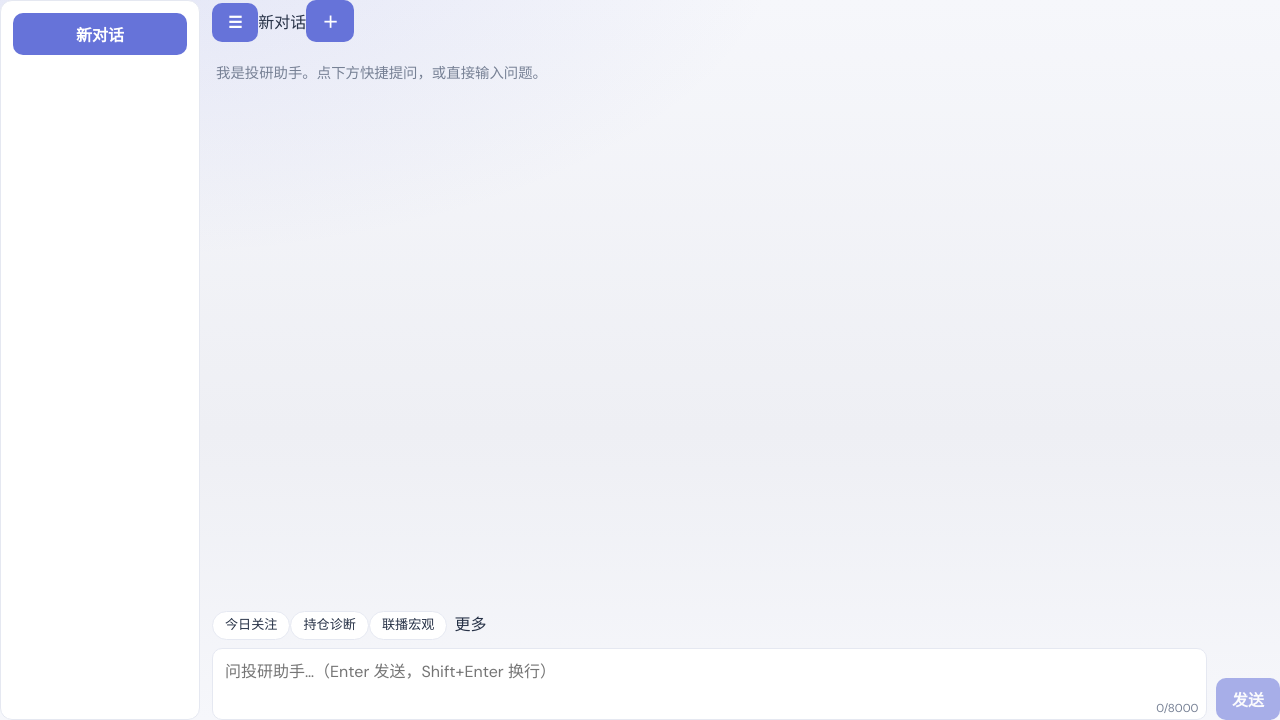
Test: 新会话创建未完成时阻止使用旧 sessionId 发送
In the text box with placeholder "问投研助手…（Enter 发送，Shift+Enter 换行）": [710, 684] box [212,648,1207,719], type "过渡期问题"
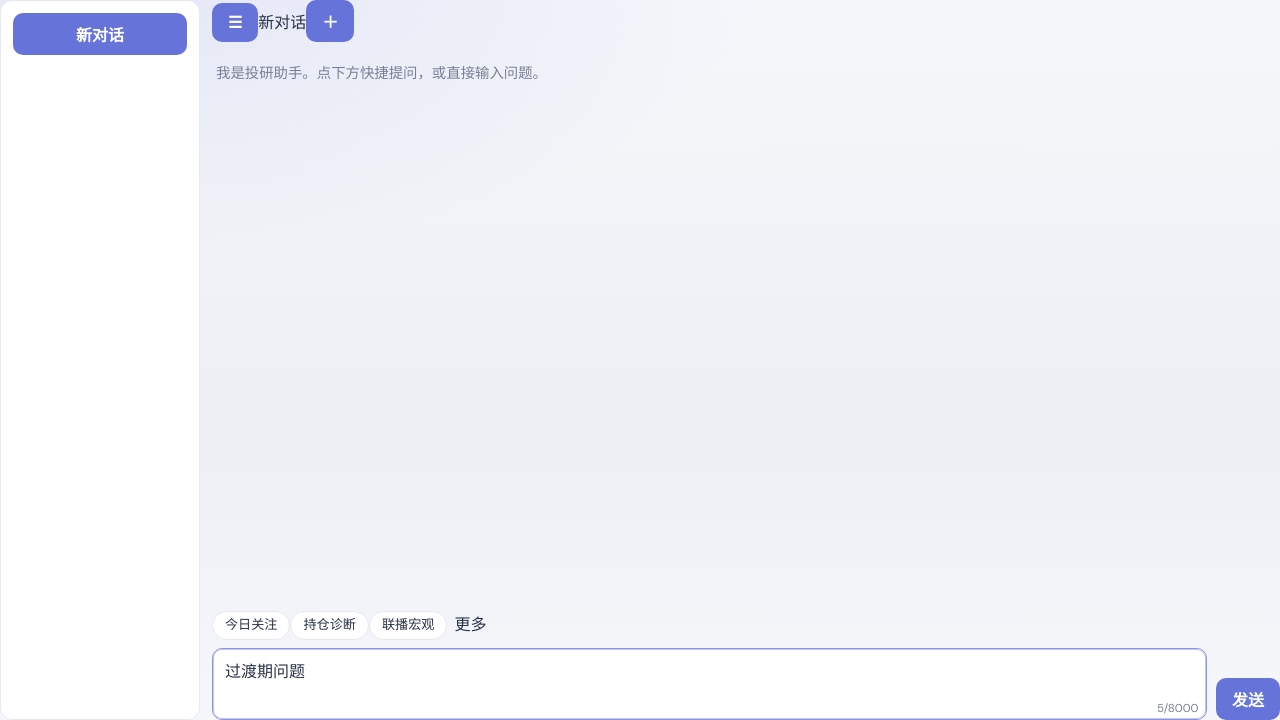
Click the button "新对话": [100, 34] box [13,13,187,55]
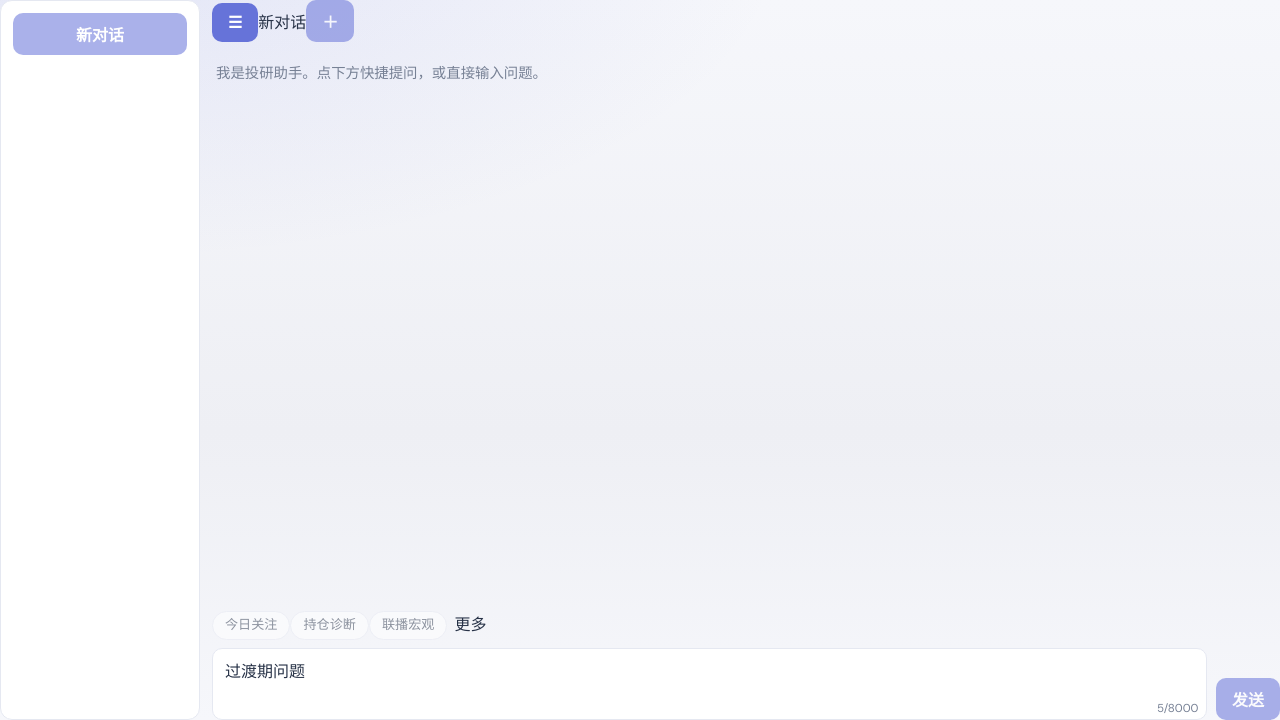
Result: the text box with placeholder "问投研助手…（Enter 发送，Shift+Enter 换行）" is disabled at [212,648,1207,719]
Result: the button "发送" is disabled
Click the button "发送": [1248, 699] box [1216,678,1279,719]
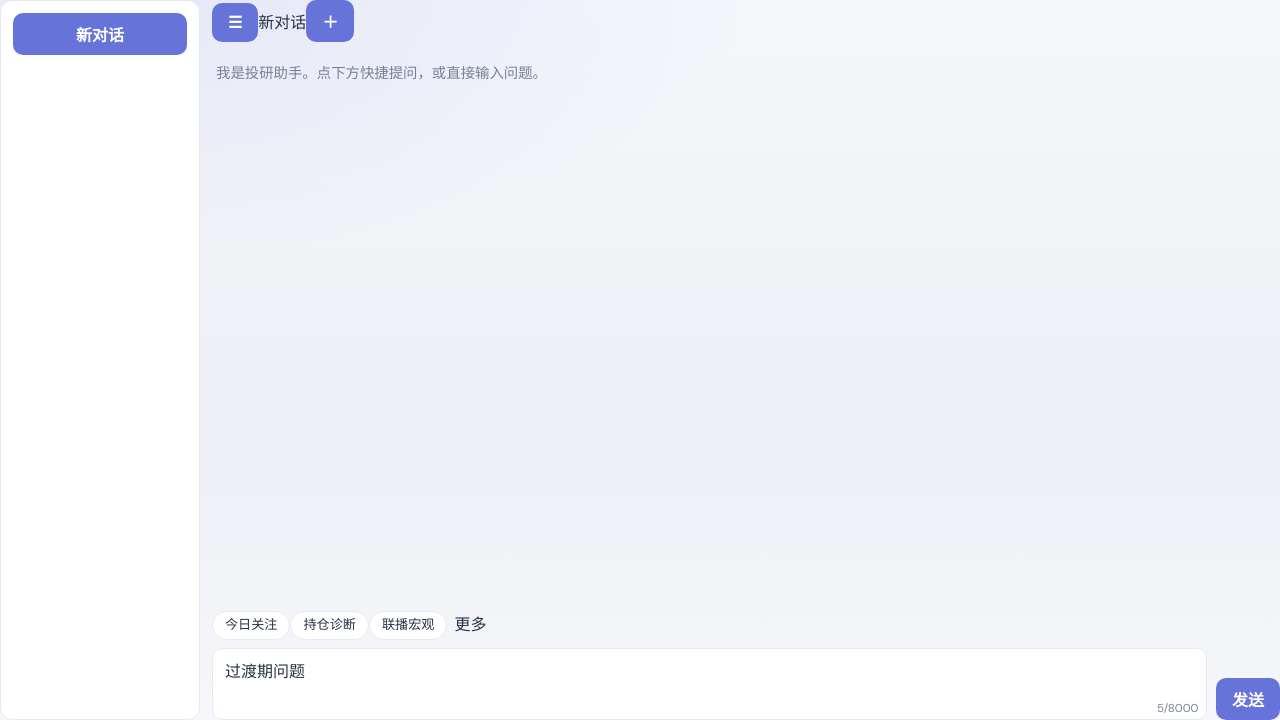
Expected: the text box with placeholder "问投研助手…（Enter 发送，Shift+Enter 换行）" is enabled, [212,648,1207,719]
Result: the button "发送" is enabled at [1216,678,1279,719]
